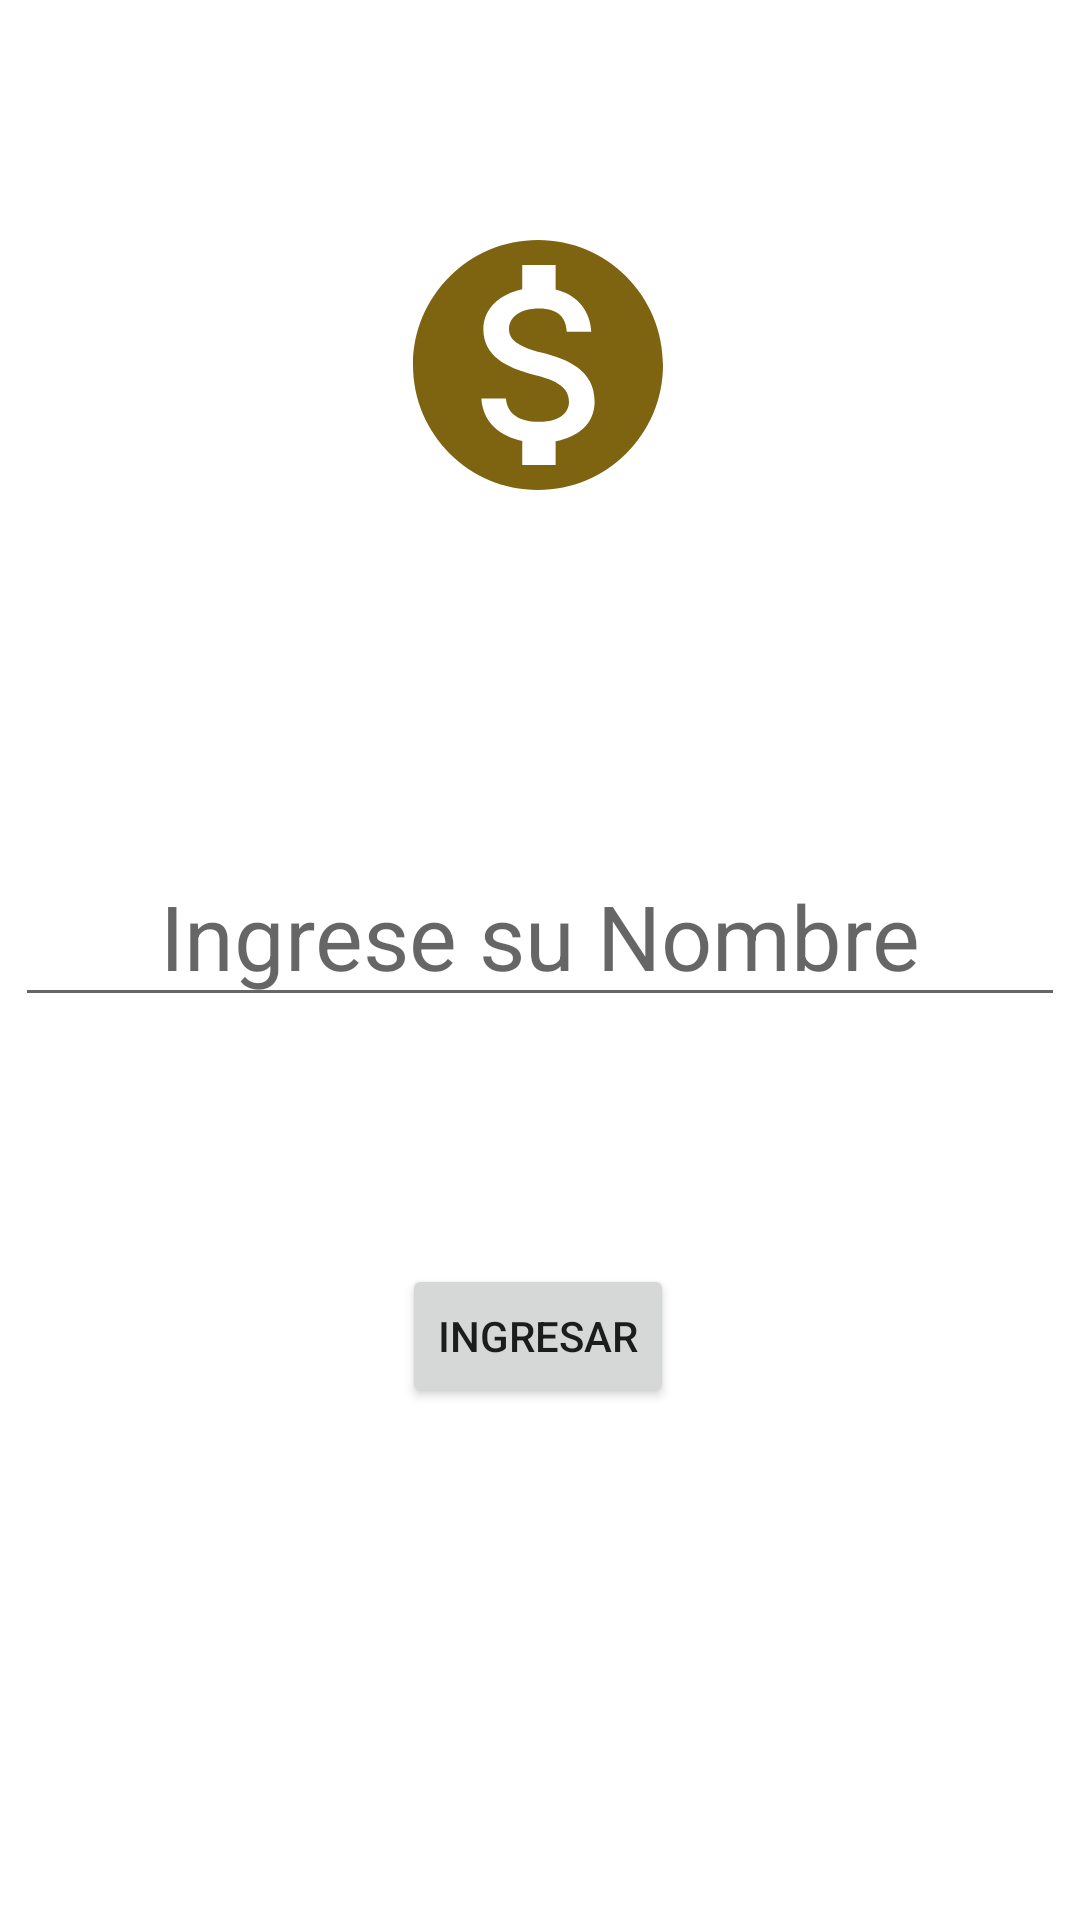

Named icons in this screenshot (1080x1920) and their bounding boxes, (x1, y1, x2, y2):
monetization on: (413, 240, 663, 490)
